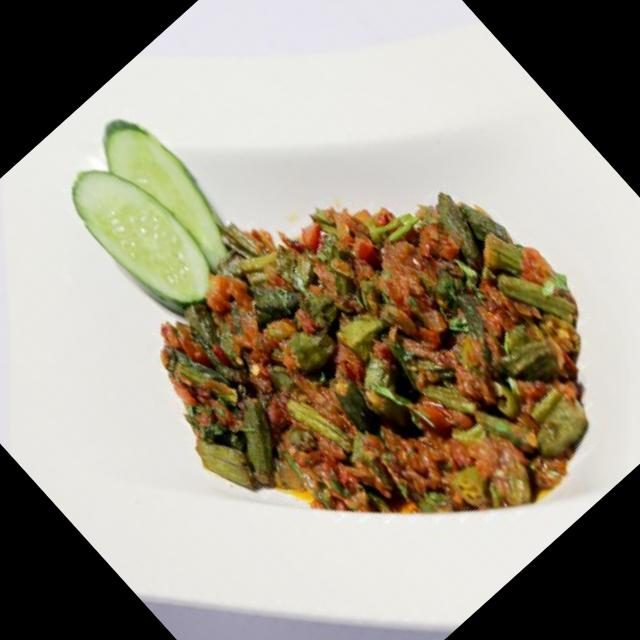BhindiMasala: (89, 73, 640, 640)
